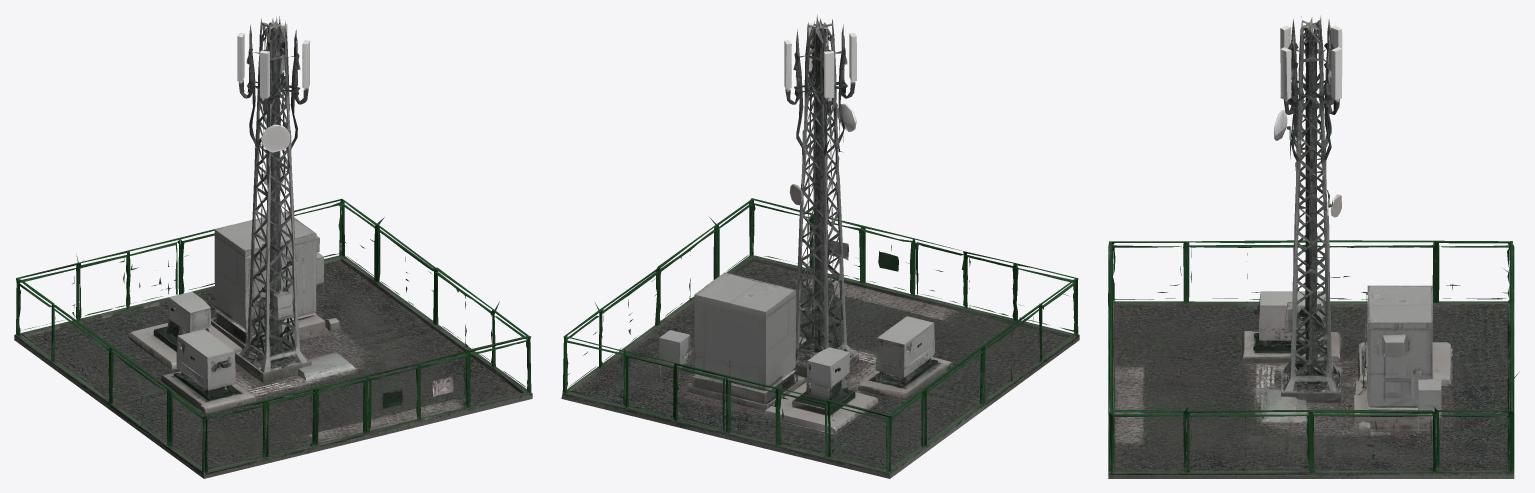
The model's file is cell_tower.glb.
The picture shows the model from 3 angles, left to right: view 1: azimuth 30°, elevation 25°; view 2: azimuth 150°, elevation 25°; view 3: azimuth 270°, elevation 25°; orthographic projection. The views are drawn at different scales.
Visible parts, largest first — view 1: cell_tower; view 2: cell_tower; view 3: cell_tower.
Boxes of the visible parts, left/top/right/bottom form: cell_tower: left=14, top=16, right=532, bottom=478; cell_tower: left=561, top=14, right=1079, bottom=478; cell_tower: left=1108, top=15, right=1519, bottom=478.
Bounding box in the file's own units: 1.78 × 1.79 × 1.78.
1 material, 1 textured.
